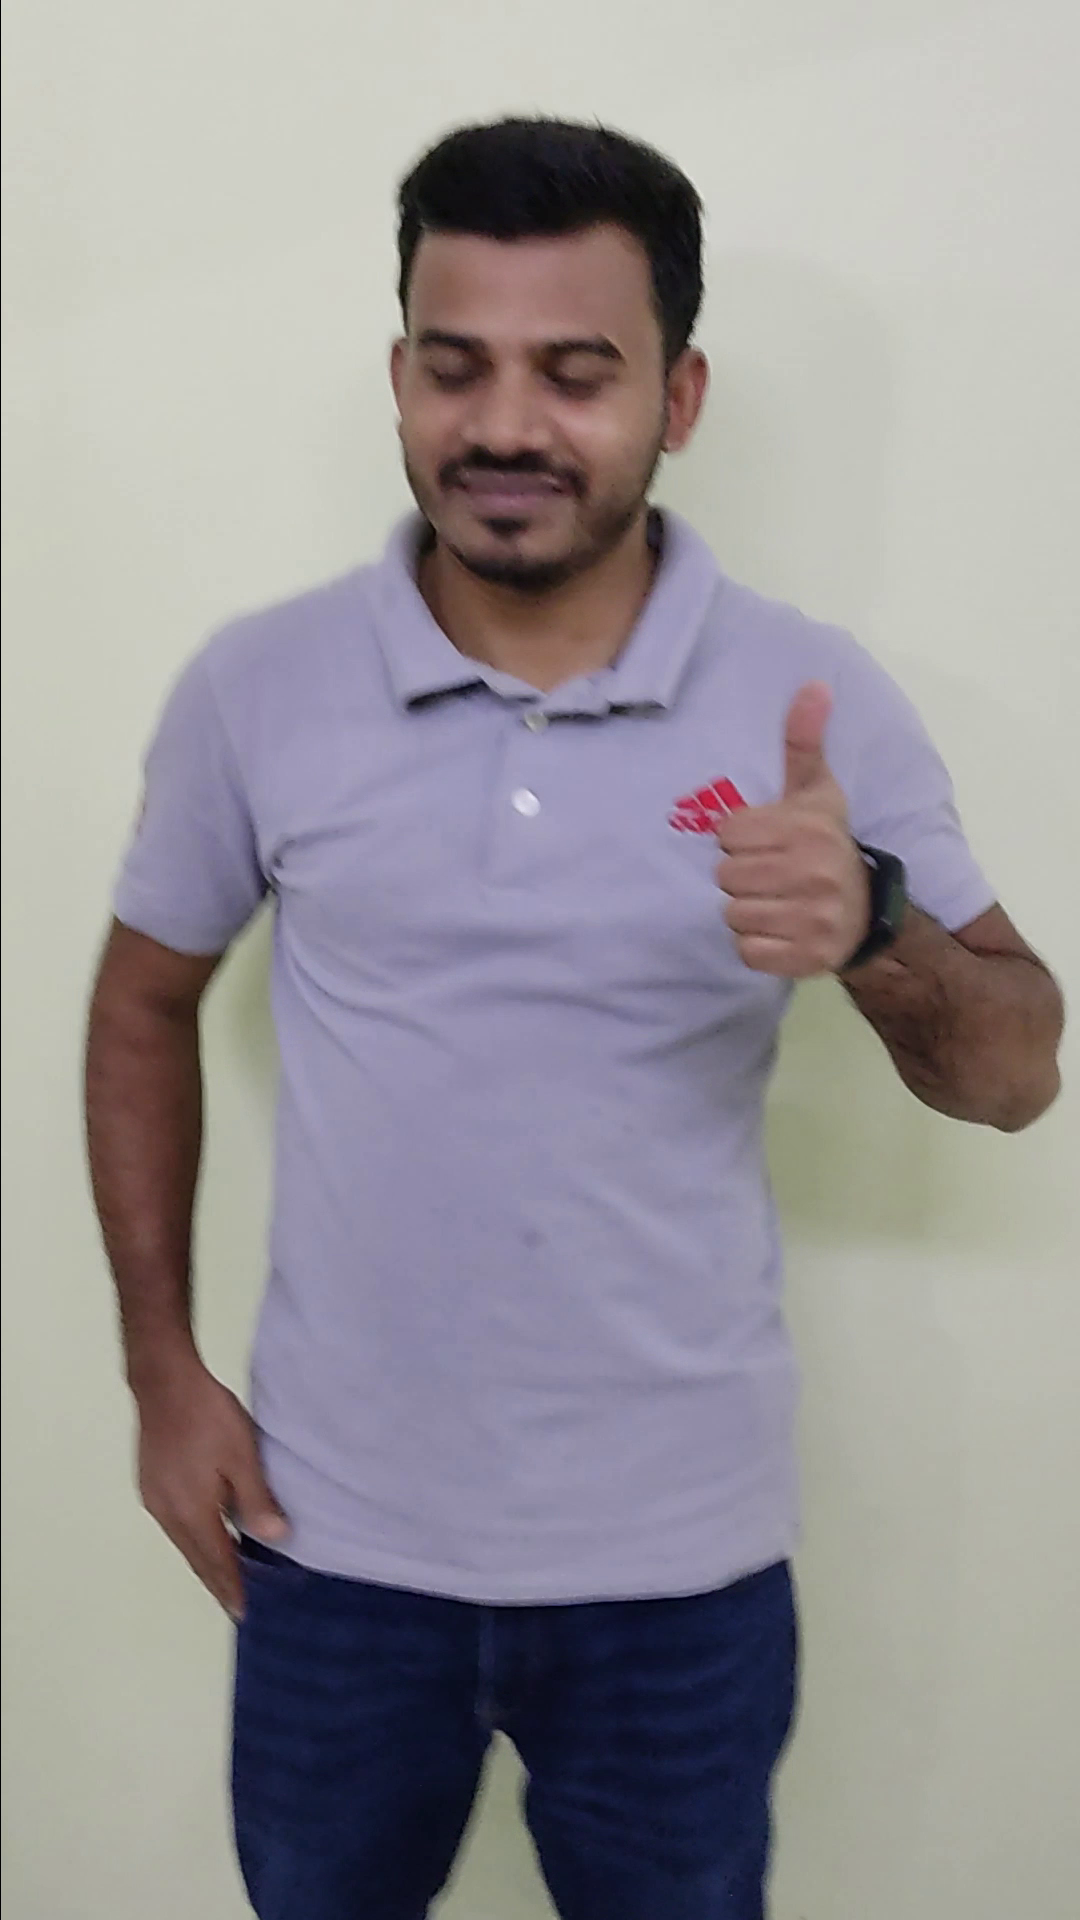Like: (676, 662, 901, 992)
None: (117, 1342, 315, 1636)
